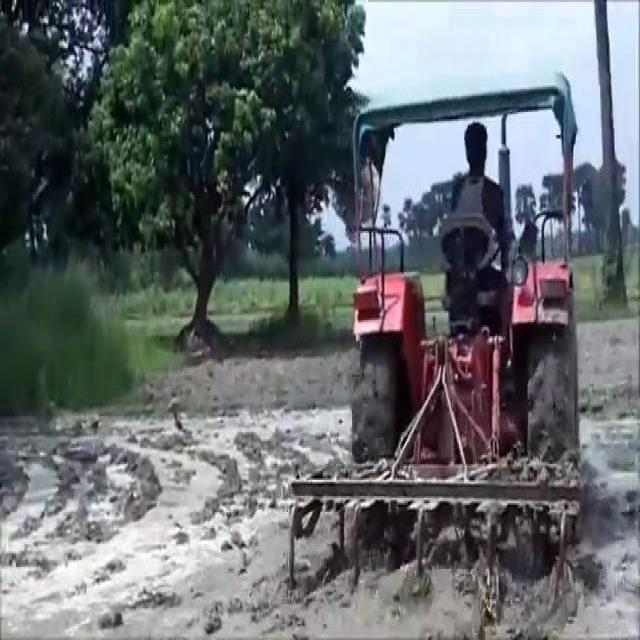Tratores - v5 YOLO V8L 2024-11-13: (351, 72, 579, 464)
